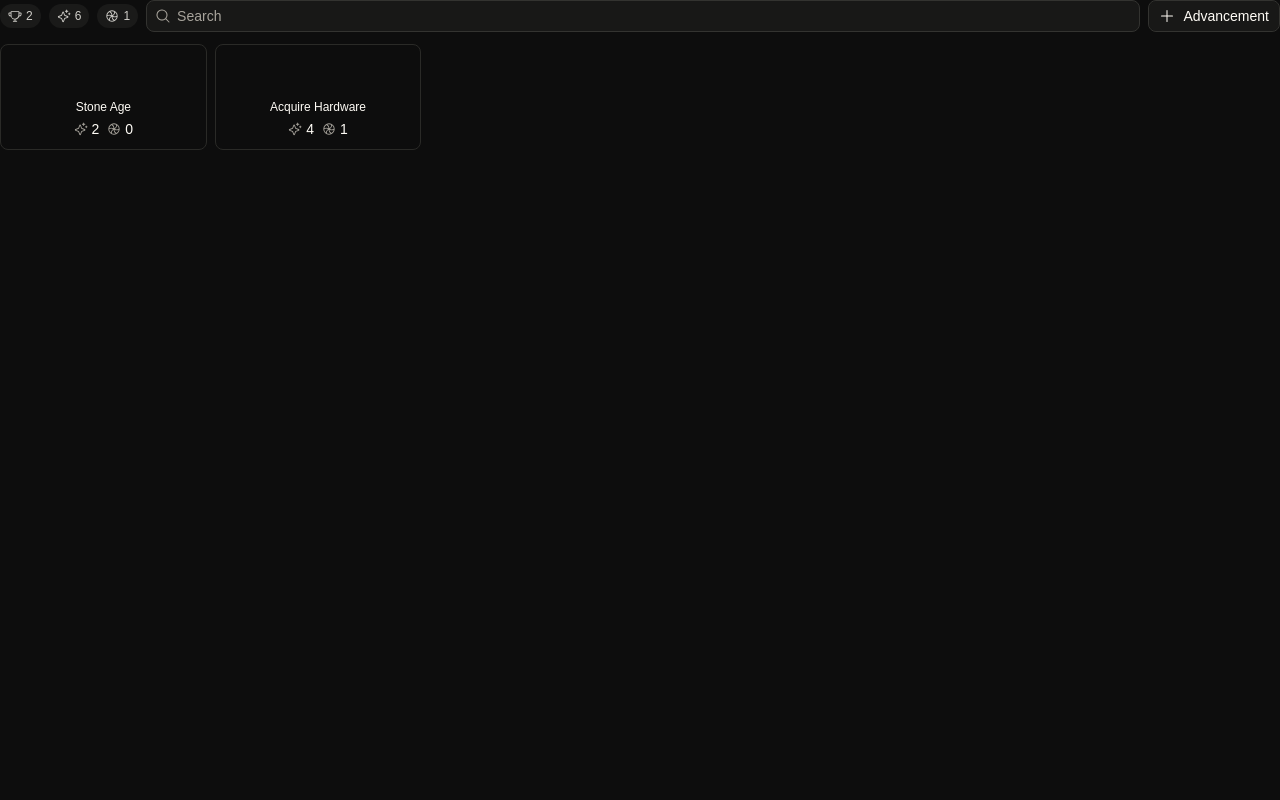
Test: game group editors › opens the dialog of an award as soon as it is added
Click the button "Advancement" at [1214, 16], box [1148, 0, 1279, 32]
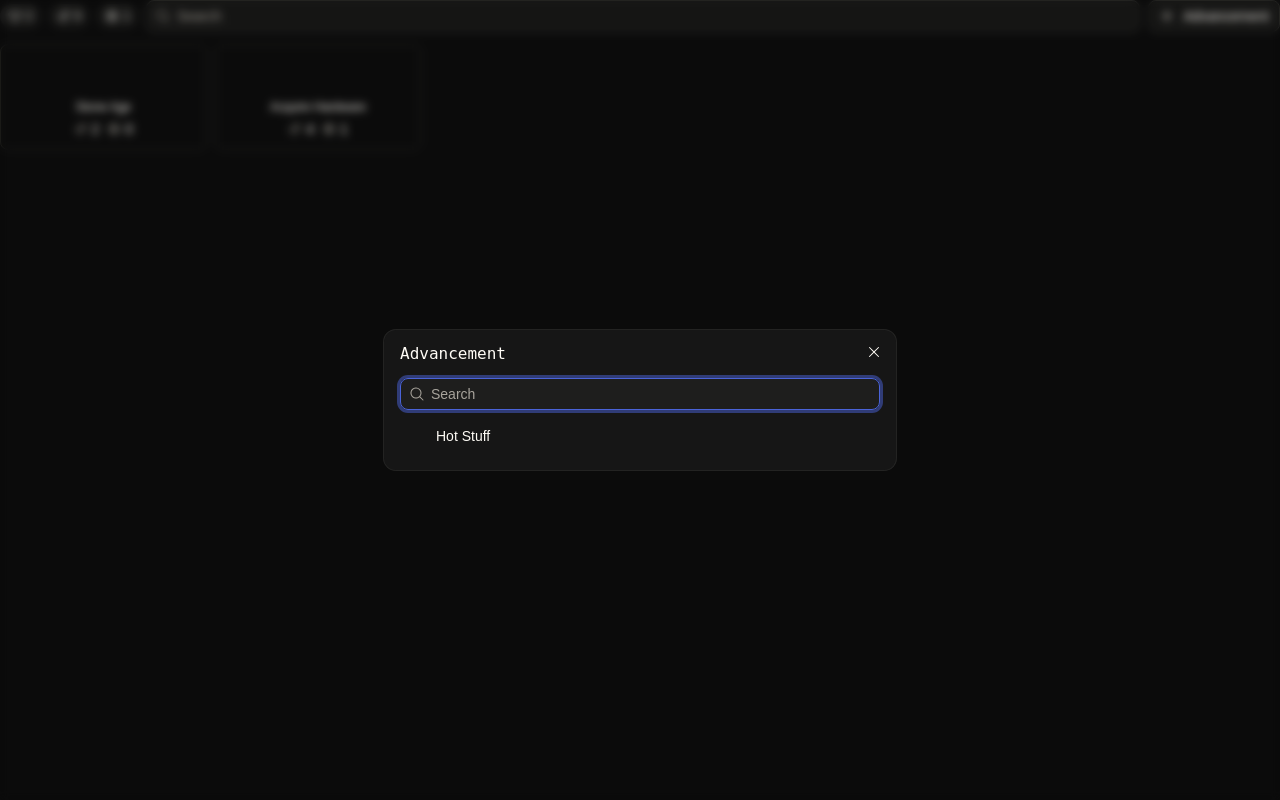
Click the option "Hot Stuff" at [463, 436], box [396, 418, 884, 454]
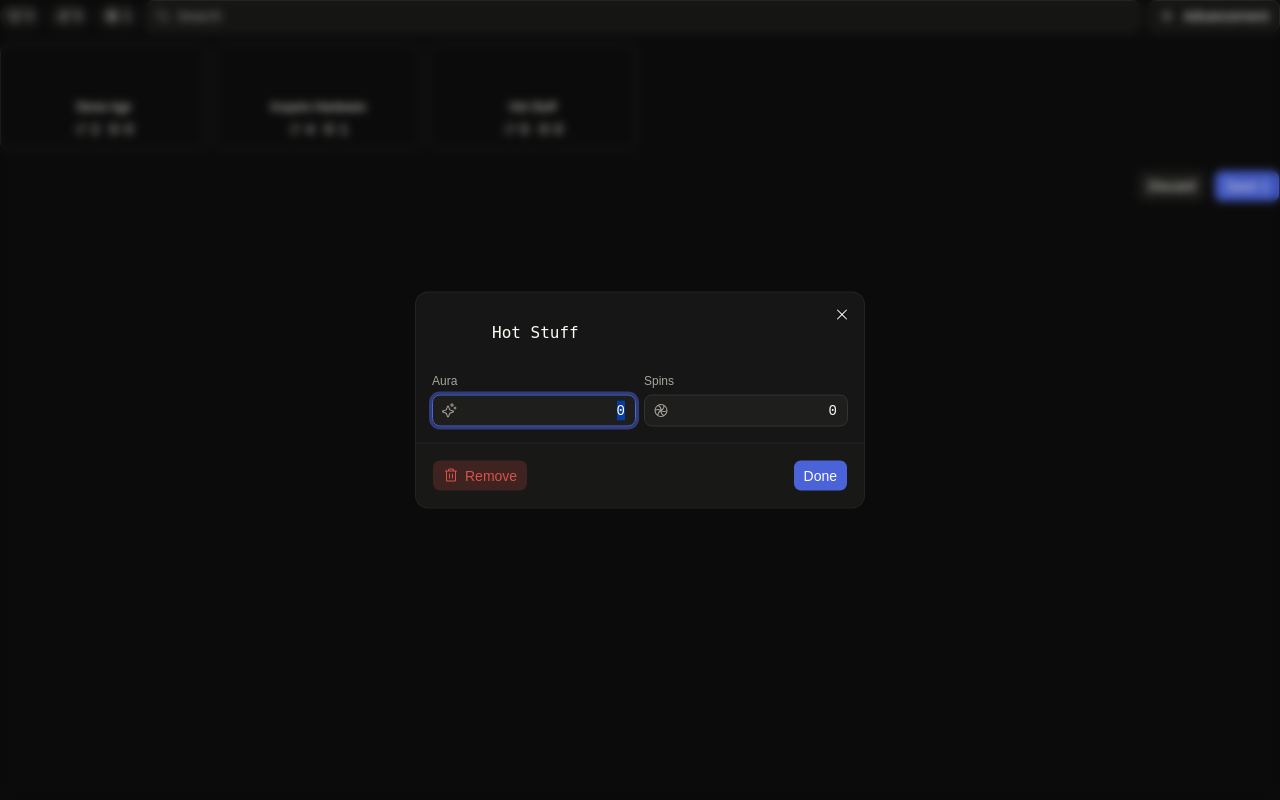
Expected: the field named "Hot Stuff aura" holds "0", [457, 396, 635, 426]
Click the button "Done" at [820, 476], box [792, 460, 848, 492]
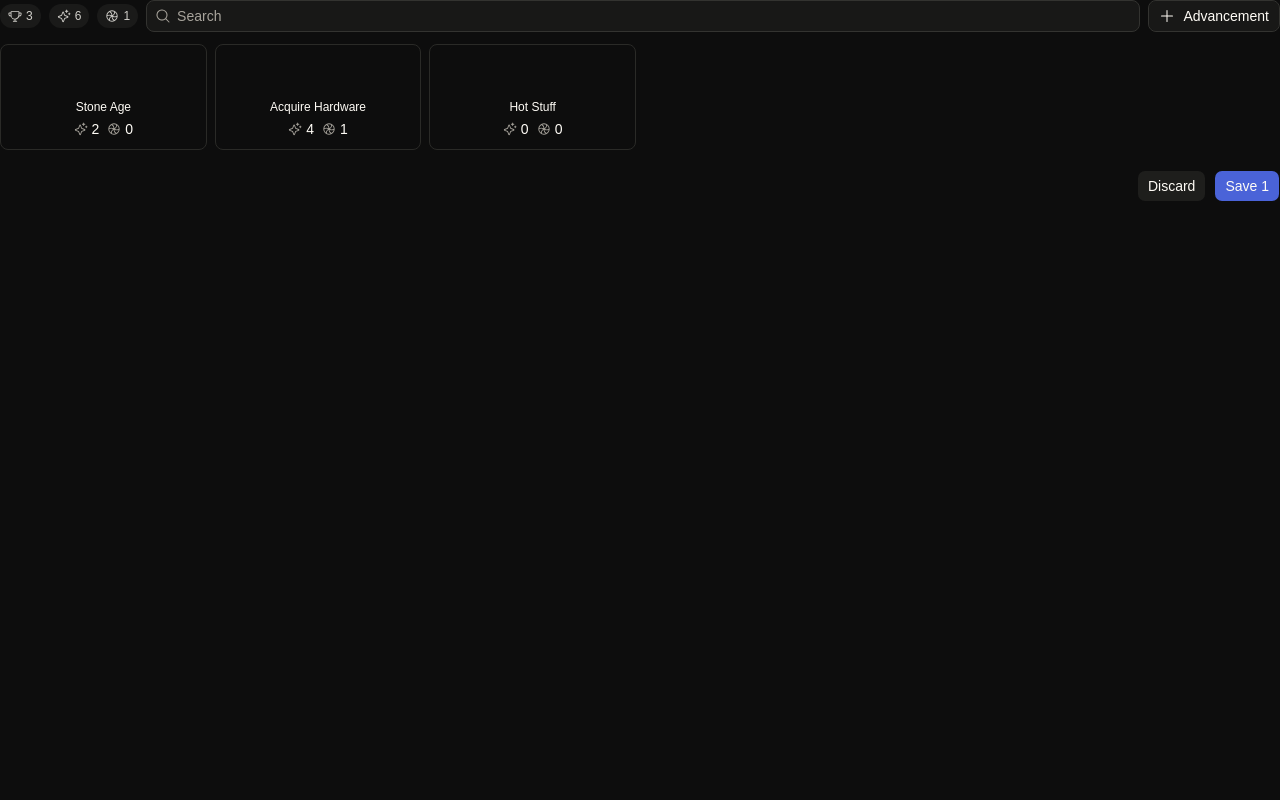
Expected: the button "Hot Stuff 0 0" is shown, [429, 44, 636, 150]
Expected: the dialog is gone
